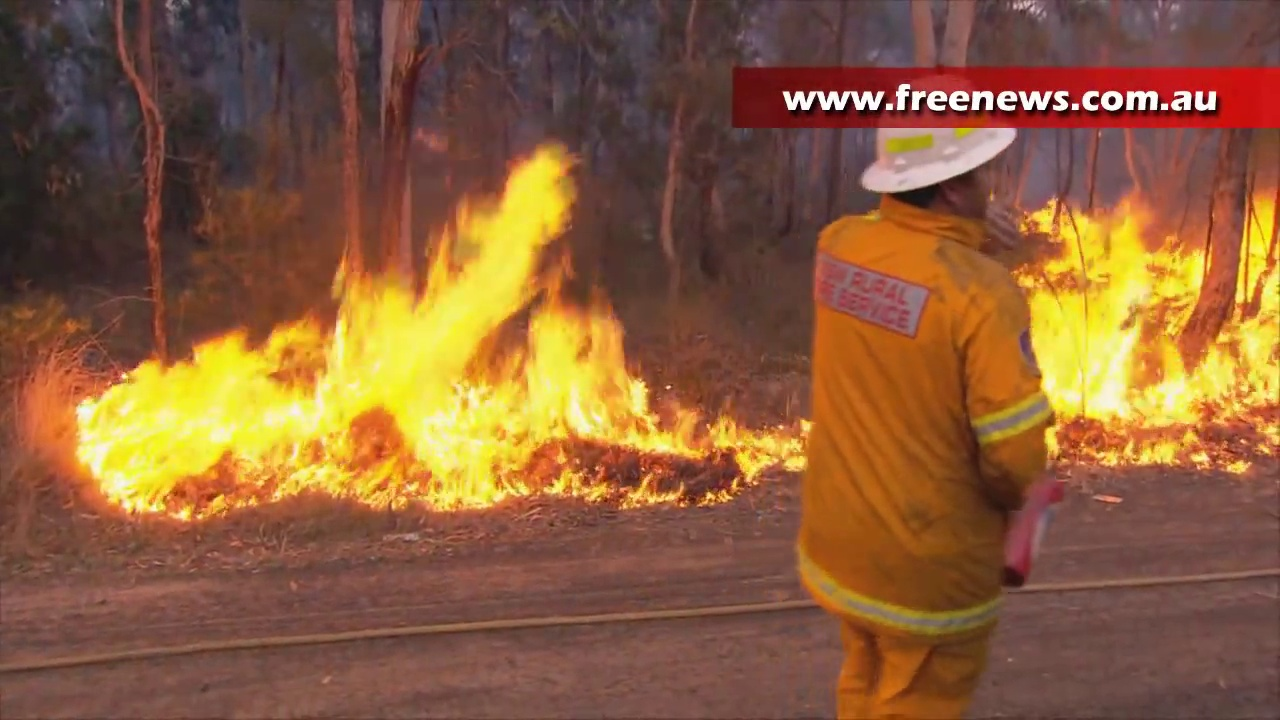fire: (73, 143, 803, 521), (1021, 193, 1280, 472)
